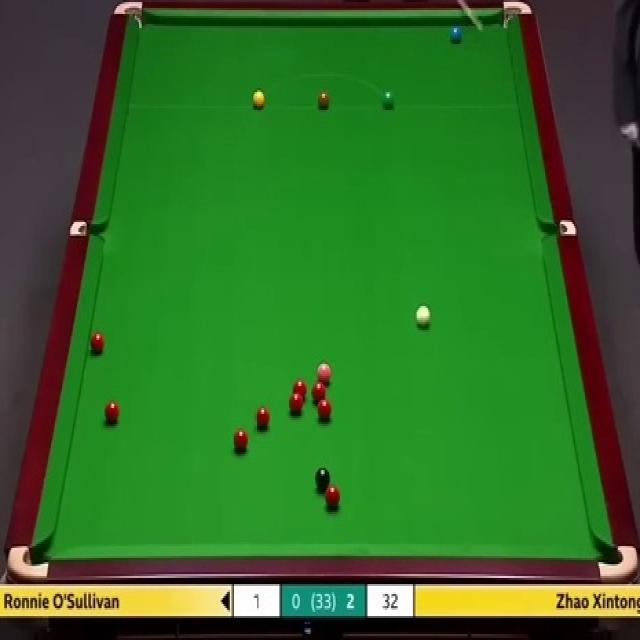pocket: (596, 537, 638, 583), (6, 546, 50, 577), (112, 0, 145, 32), (503, 0, 532, 28), (539, 218, 577, 237), (69, 220, 107, 237)
